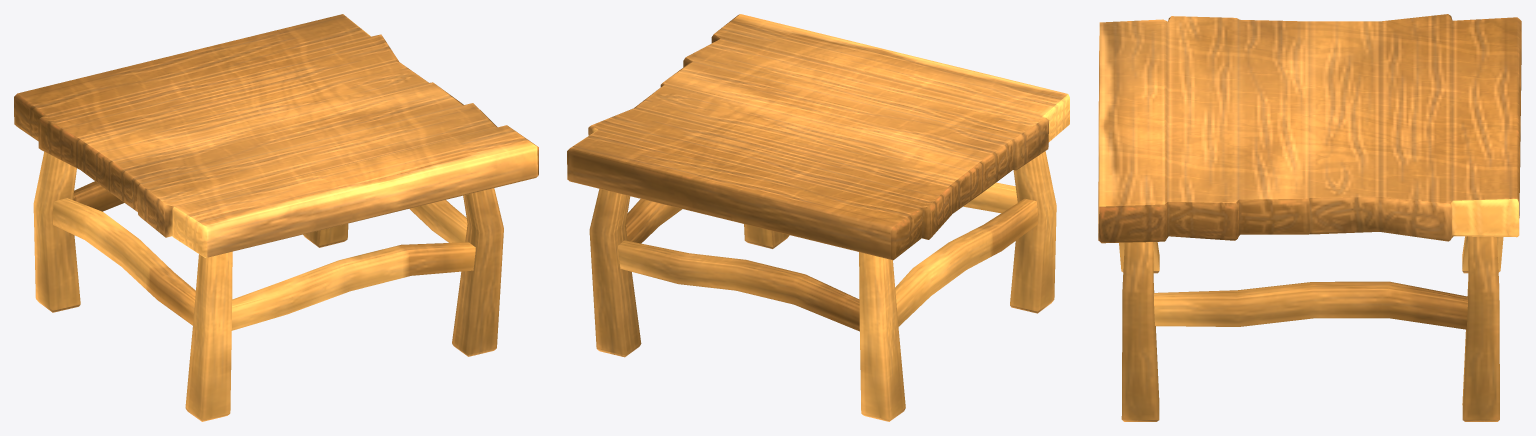
File: SM_Stylized_Table_C.fbx
3 renders of one model, left to right at view 1: azimuth 30°, elevation 25°; view 2: azimuth 150°, elevation 25°; view 3: azimuth 270°, elevation 25°, orthographic. The views are drawn at different scales.
Visible parts, largest first — view 1: SM_Stylized_Table_C_LOD0; view 2: SM_Stylized_Table_C_LOD0; view 3: SM_Stylized_Table_C_LOD0.
Part boxes in pixels (x1=…): SM_Stylized_Table_C_LOD0: x1=14, y1=14, x2=538, y2=421; SM_Stylized_Table_C_LOD0: x1=567, y1=14, x2=1069, y2=421; SM_Stylized_Table_C_LOD0: x1=1098, y1=14, x2=1521, y2=421.
Size of the model in its own units: 165 by 152 by 93.29.
